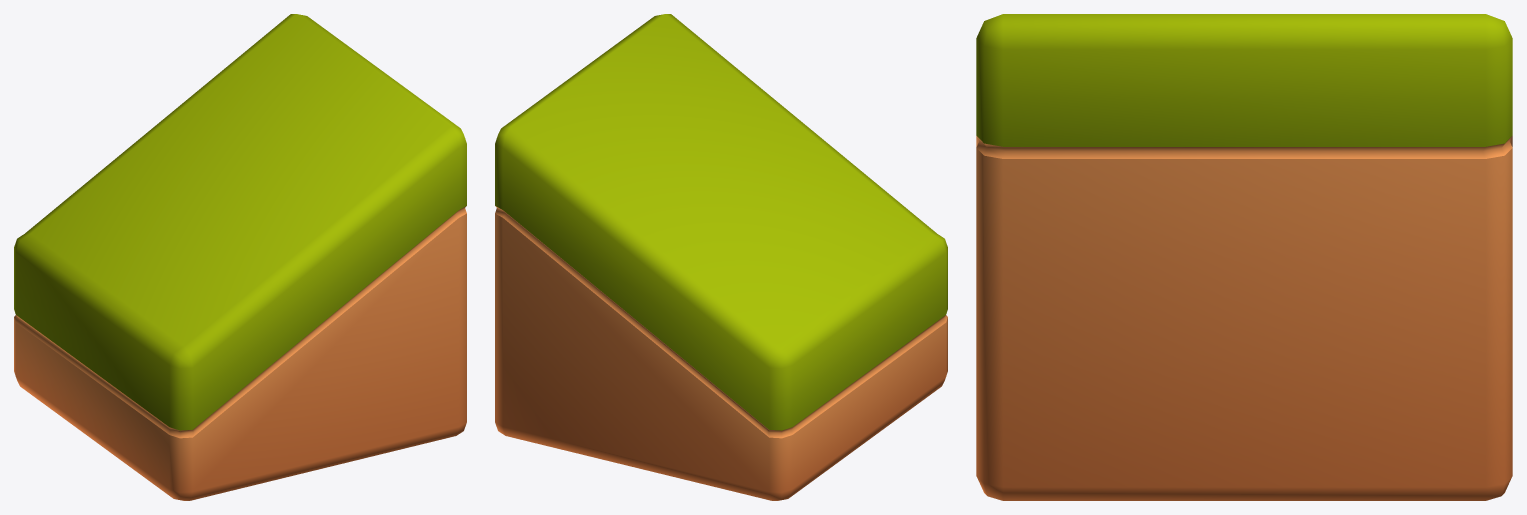
Rendered from 3D_Tile_Ground_Slope_01.glb.
3 renders of one model, left to right at view 1: azimuth 30°, elevation 25°; view 2: azimuth 150°, elevation 25°; view 3: azimuth 270°, elevation 25°, orthographic. The views are drawn at different scales.
Visible parts, largest first — view 1: 3D_Tile_Ground_Slope_01; view 2: 3D_Tile_Ground_Slope_01; view 3: 3D_Tile_Ground_Slope_01.
Part boxes in pixels (box(x1,y1,x2,y2)): 3D_Tile_Ground_Slope_01: box(14, 14, 466, 500); 3D_Tile_Ground_Slope_01: box(495, 14, 947, 500); 3D_Tile_Ground_Slope_01: box(976, 14, 1512, 500).
Size of the model in its own units: 2 by 2 by 2.
1 material, 1 textured.
